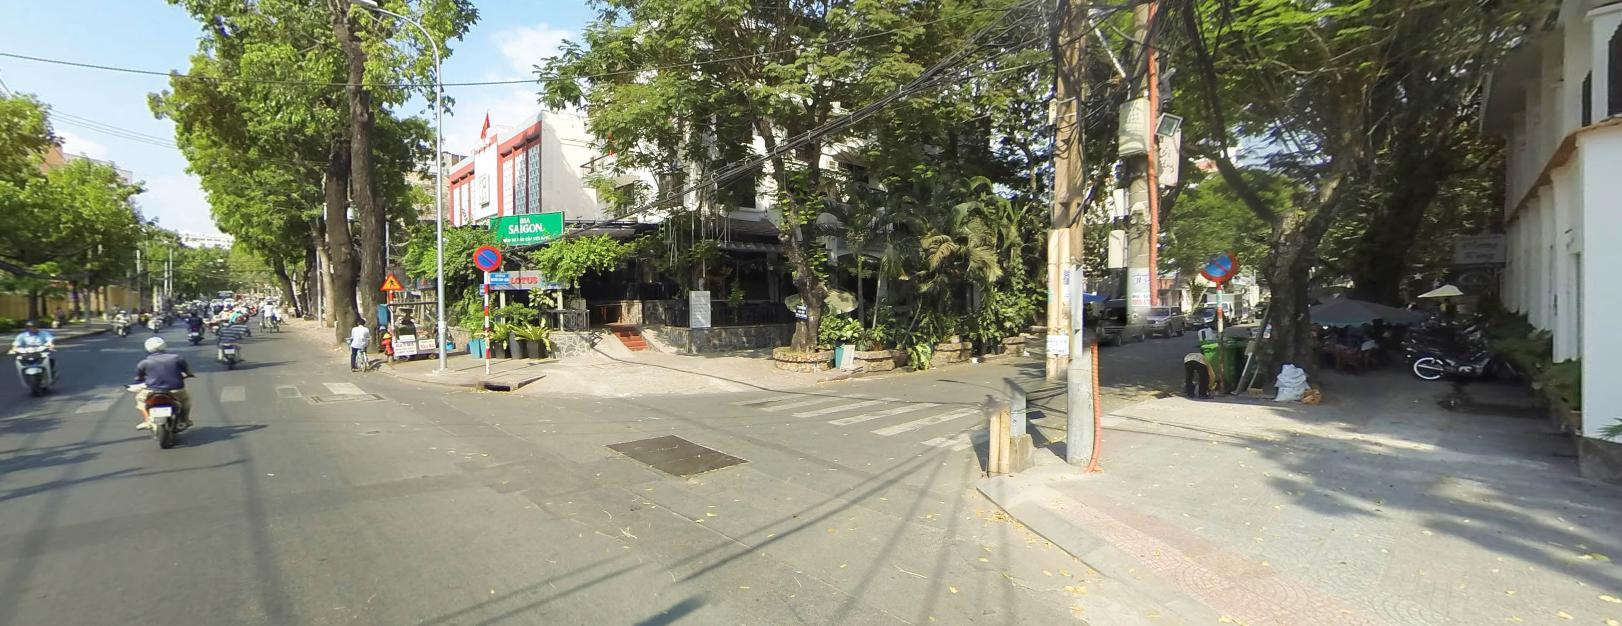Cam dung va do: (1197, 243, 1236, 279), (473, 243, 500, 269)
Nguy hiem: (379, 271, 402, 288)
